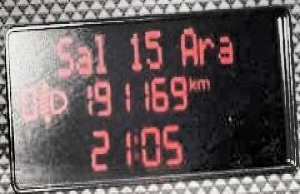0: (141, 123, 160, 167), (18, 85, 37, 120)
1: (128, 29, 141, 74), (122, 125, 132, 172), (122, 77, 133, 113), (141, 74, 150, 115), (85, 79, 92, 114)
2: (90, 127, 110, 172)
5: (161, 120, 182, 165), (144, 25, 164, 69)
6: (151, 73, 167, 112)
9: (93, 77, 111, 115), (170, 72, 186, 108)
X: (180, 23, 197, 67), (55, 32, 72, 73), (216, 30, 235, 65), (93, 30, 108, 74), (197, 32, 213, 65), (76, 44, 91, 74), (196, 73, 210, 92), (132, 128, 138, 162), (187, 70, 196, 90)
